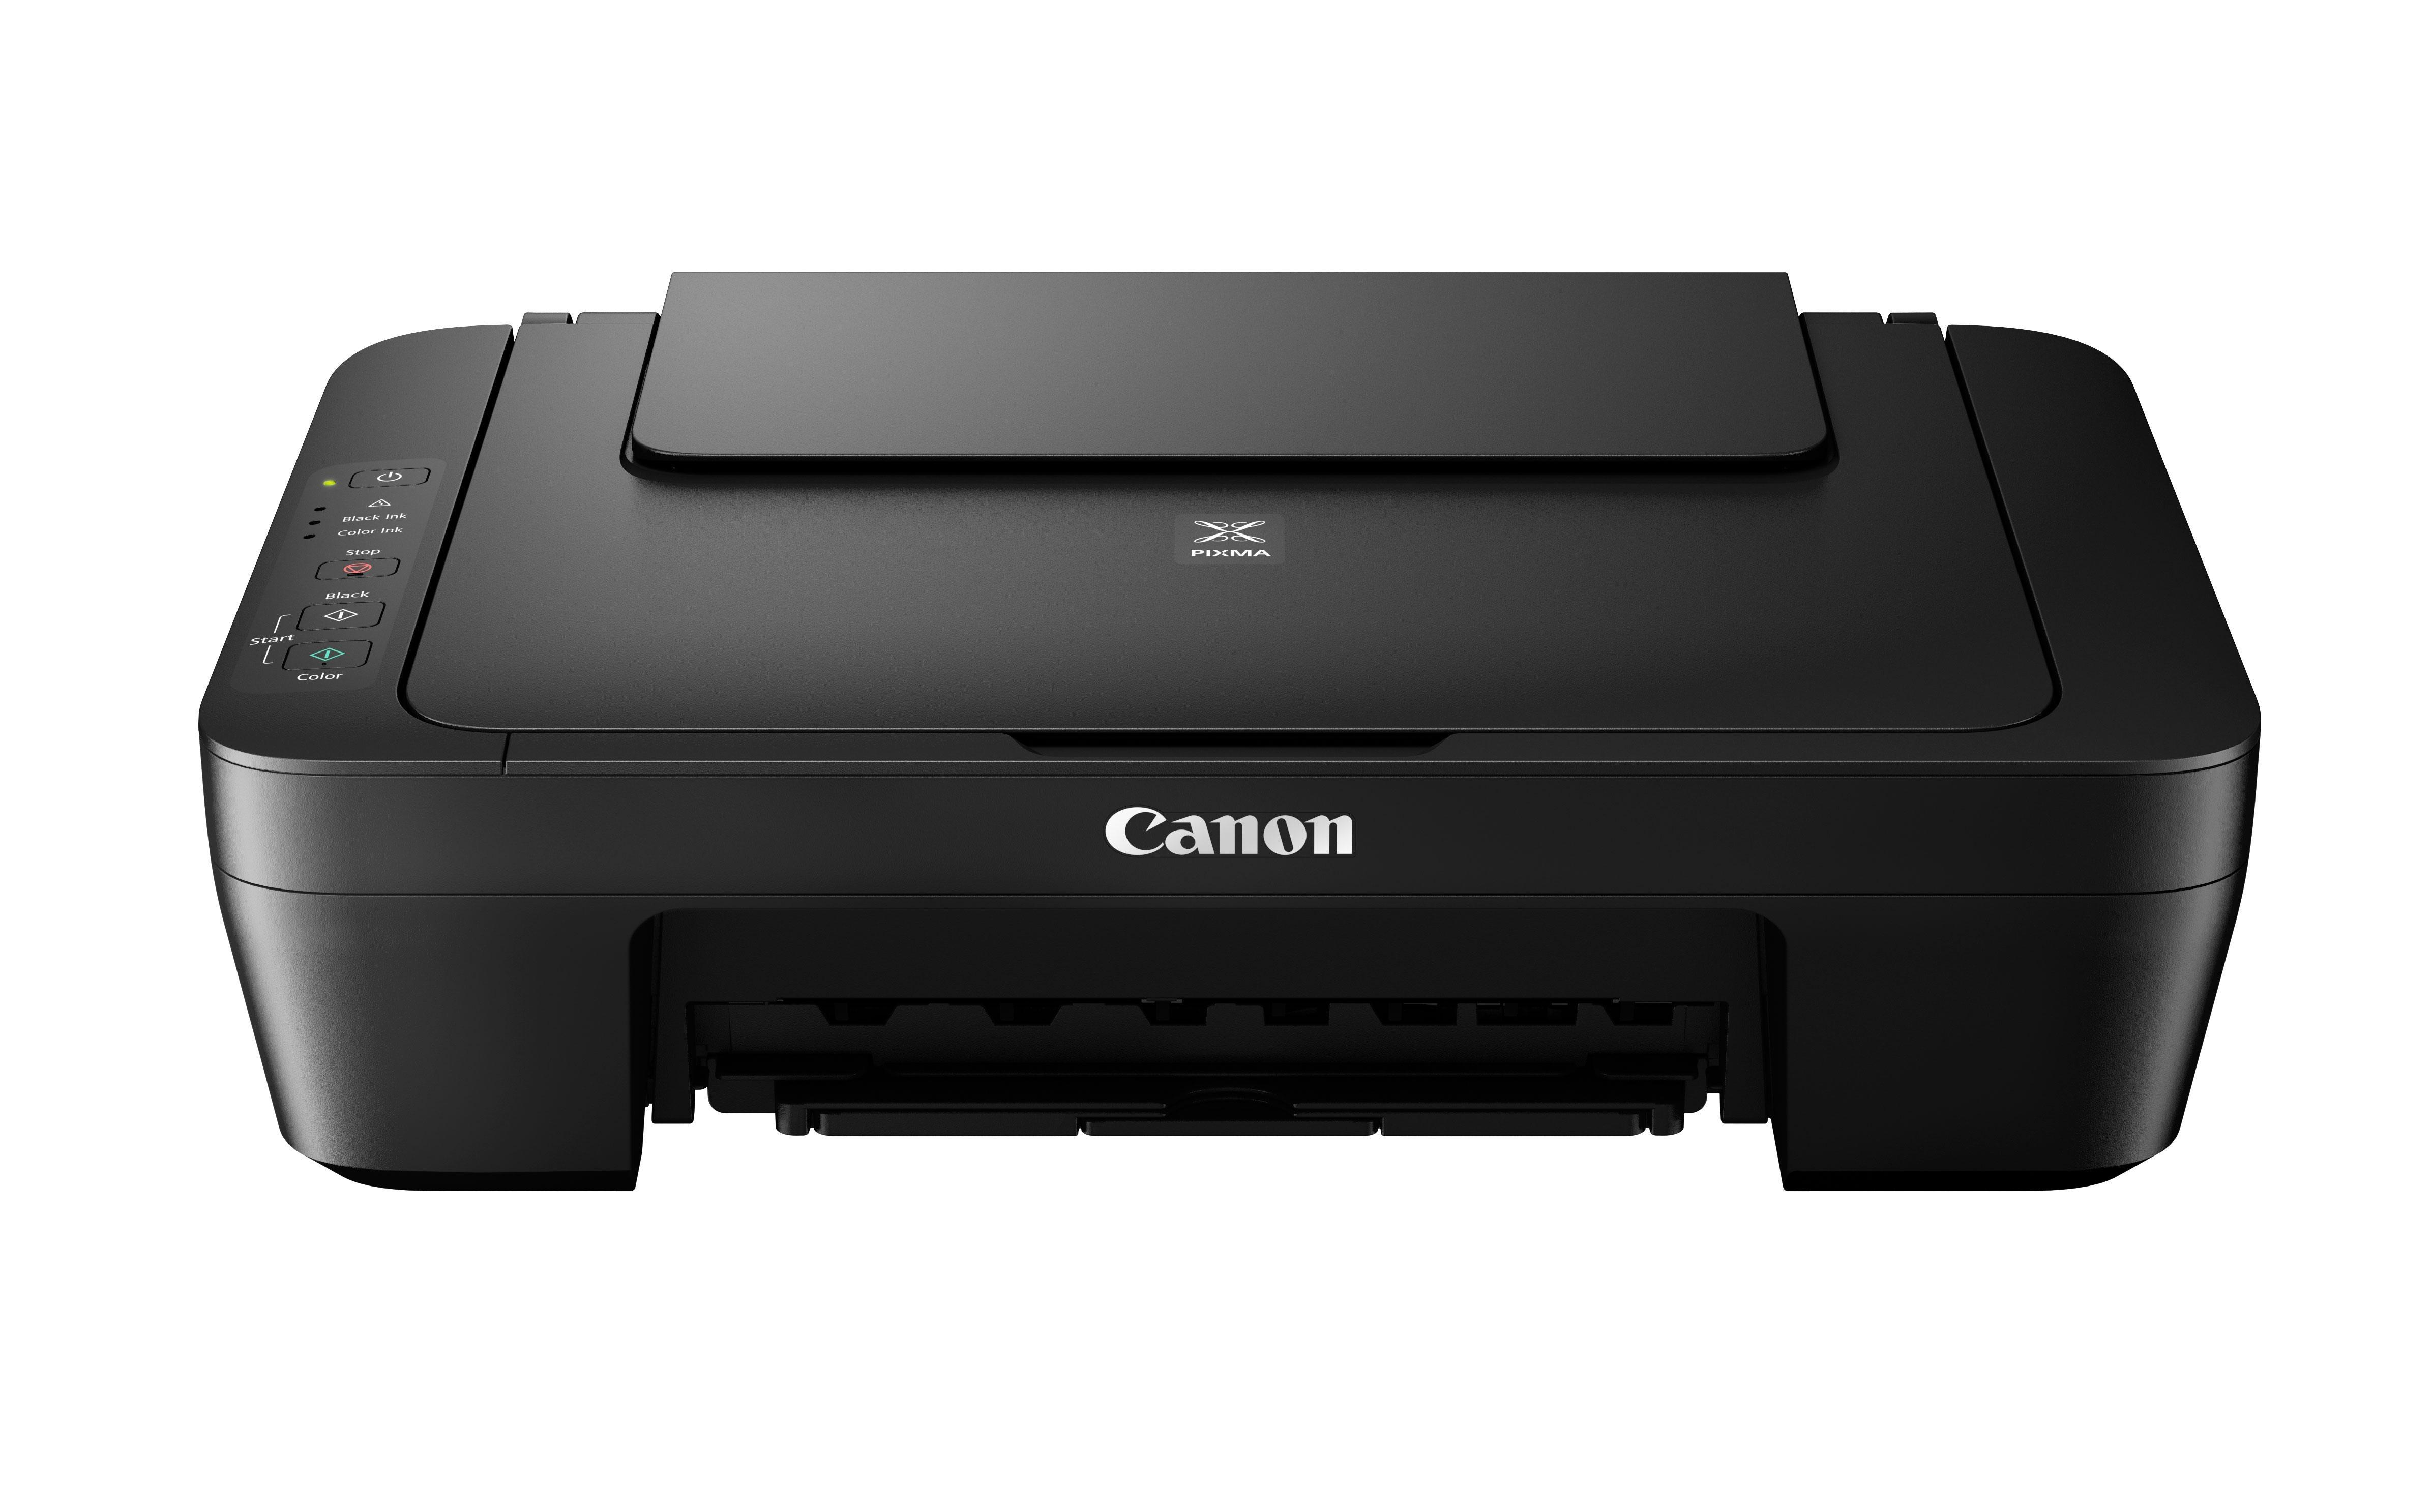Printer: (197, 268, 2261, 1193)
